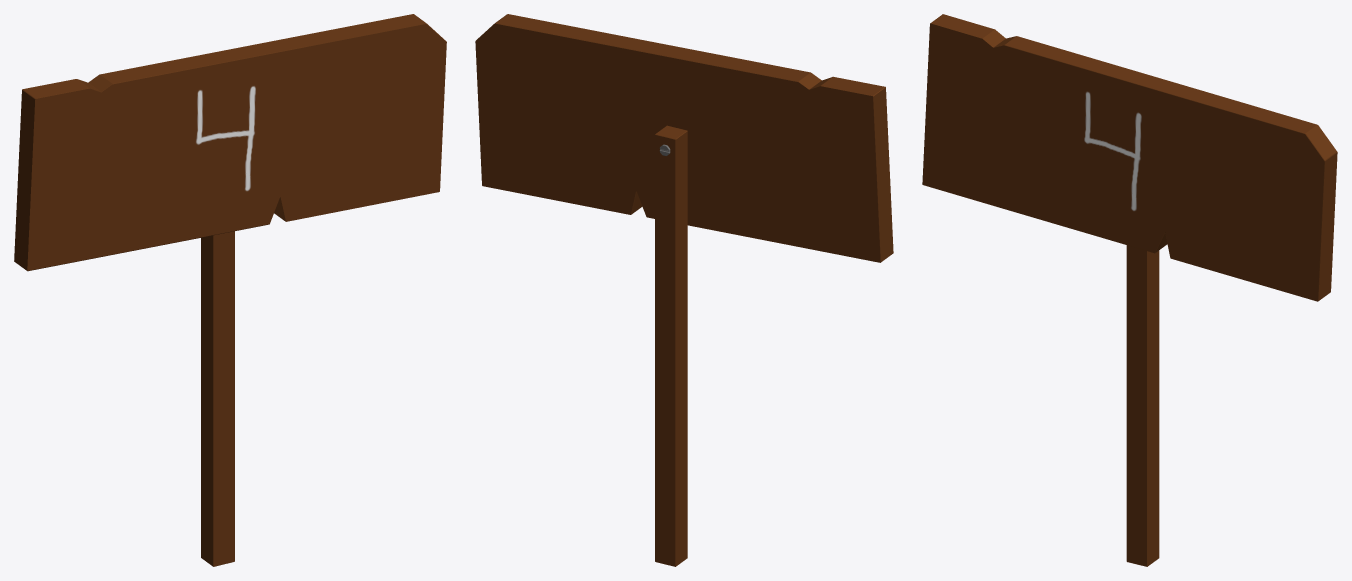
File: sign1.fbx
3 views of the same model, side by side, from view 1: azimuth 30°, elevation 25°; view 2: azimuth 150°, elevation 25°; view 3: azimuth 330°, elevation 25° (orthographic). The views are drawn at different scales.
Visible parts, largest first — view 1: Sign 1; view 2: Sign 1; view 3: Sign 1.
Boxes of the visible parts, box(x1,y1,x2,y2) form: Sign 1: box(14, 14, 446, 566); Sign 1: box(475, 14, 893, 566); Sign 1: box(922, 14, 1337, 566).
Size of the model in its own units: 203 by 243 by 22.8.
